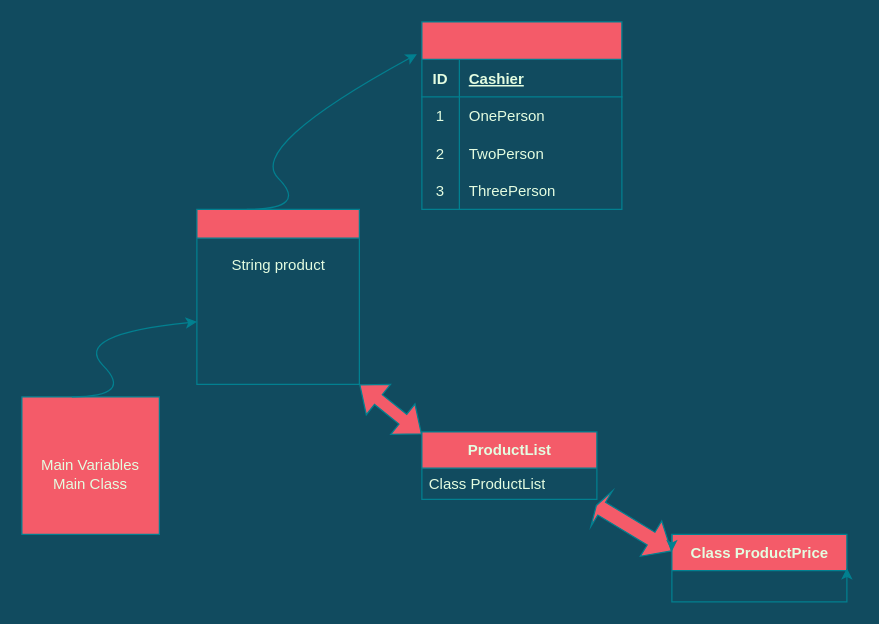
Some shapes in this 879 by 624 pixel diagram are drawn without their labels. The shapes that lost their labels are listed below. From the top down, each one's box as (x1, y1, x2, y2) in pixels, then its label:
(421, 21, 622, 209): DataBase
(196, 208, 359, 384): Class Menu
